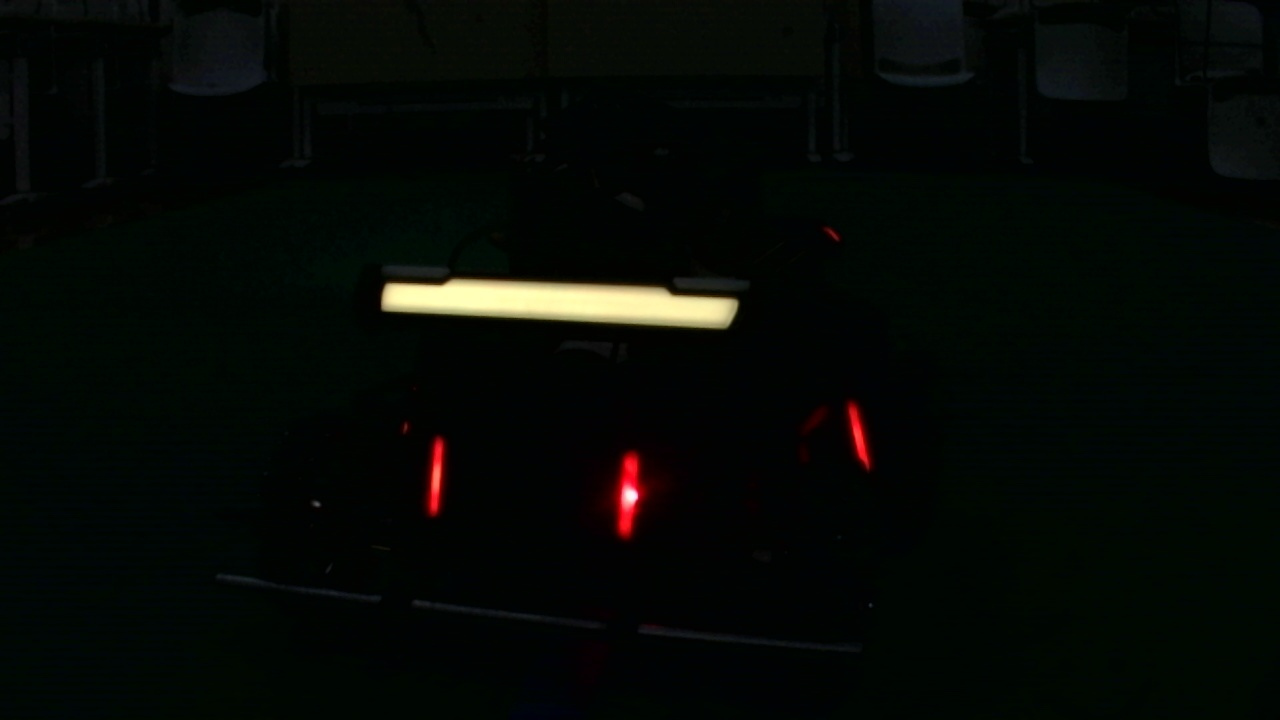lamp: (619, 446, 643, 544), (845, 393, 872, 471), (424, 435, 442, 514)
notpair1: (616, 395, 875, 541)
pair1: (424, 440, 643, 548)
